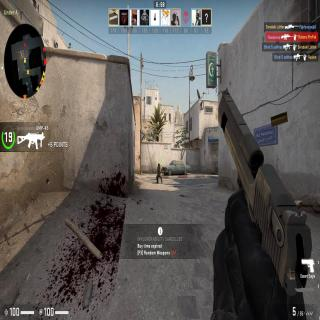CT-Body: (155, 162, 163, 182)
CT-Head: (158, 163, 160, 166)
